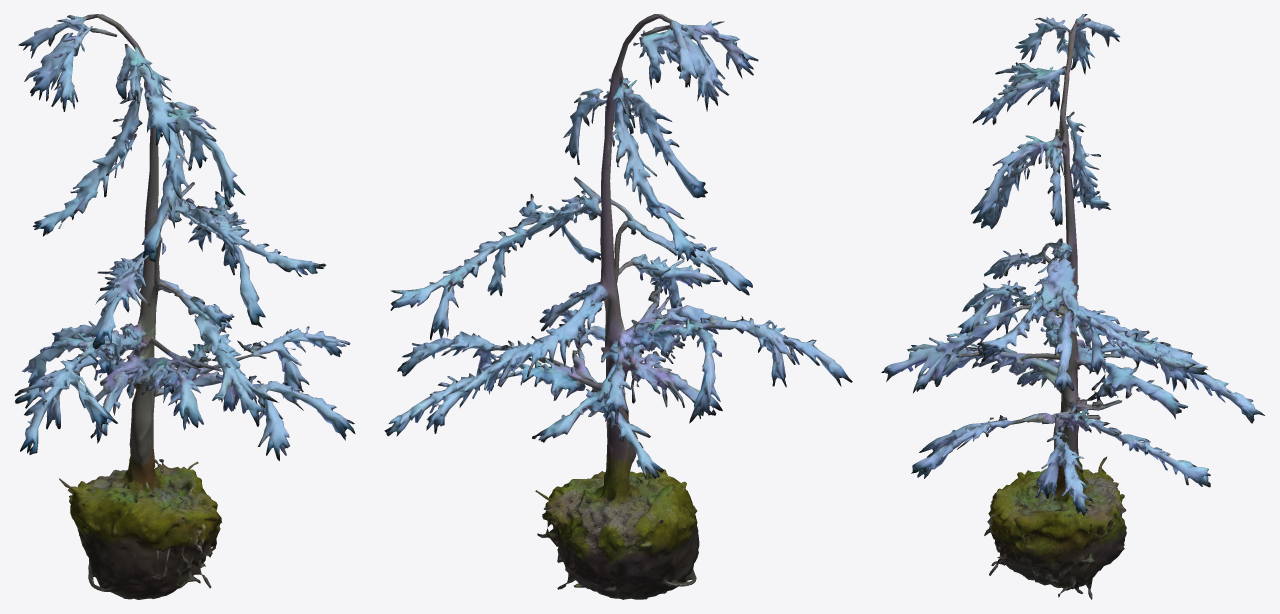
File: tree_hemlock_sapling_glow.glb
3 views of the same model, side by side, from view 1: azimuth 30°, elevation 25°; view 2: azimuth 150°, elevation 25°; view 3: azimuth 270°, elevation 25° (orthographic). The views are drawn at different scales.
Bounding box in the file's own units: 1.39 × 2 × 1.31.
1 material, 1 textured.
